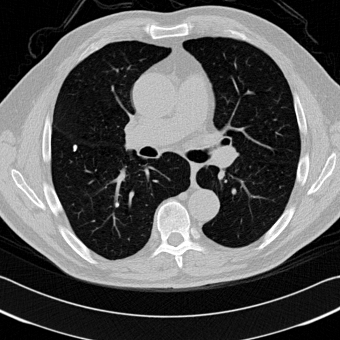nodule: (71, 144, 77, 150)
